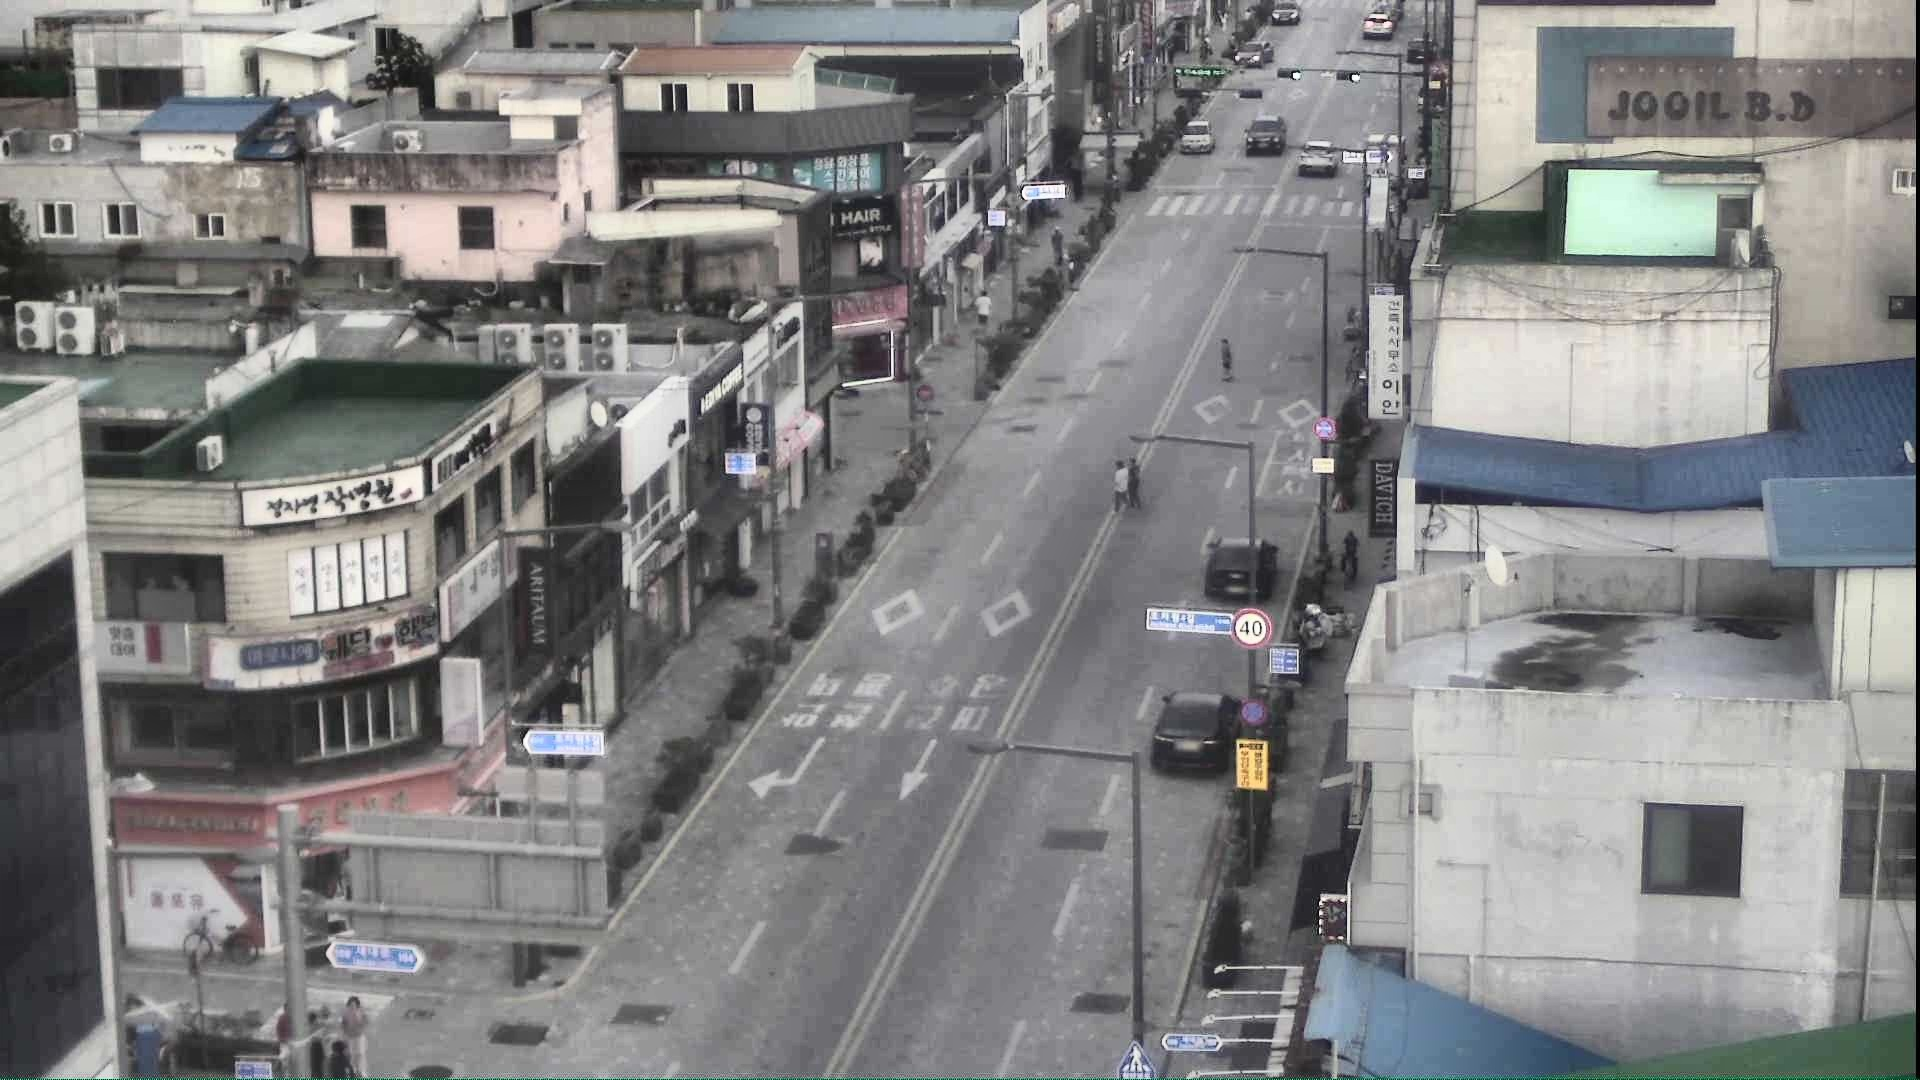jaywalk: (339, 990, 373, 1079), (1125, 454, 1147, 513), (1216, 335, 1238, 385), (1110, 462, 1131, 514)
sidewalk: (1338, 529, 1362, 578), (1048, 220, 1069, 270), (975, 289, 993, 339)
